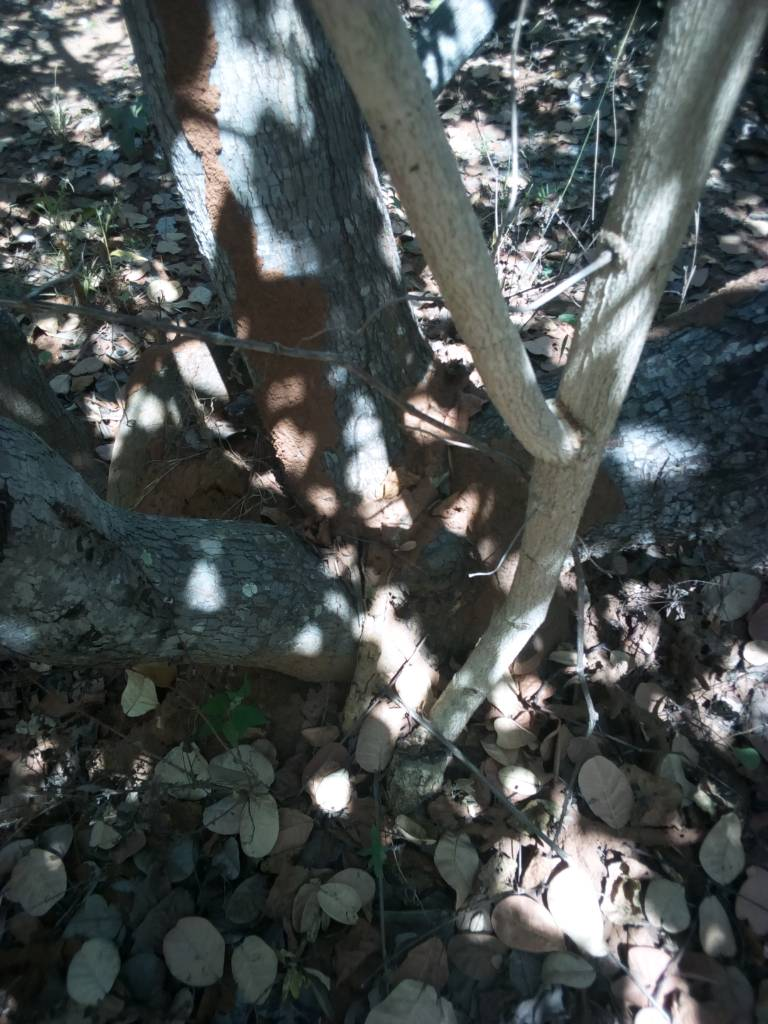Termites: (157, 21, 393, 514)
